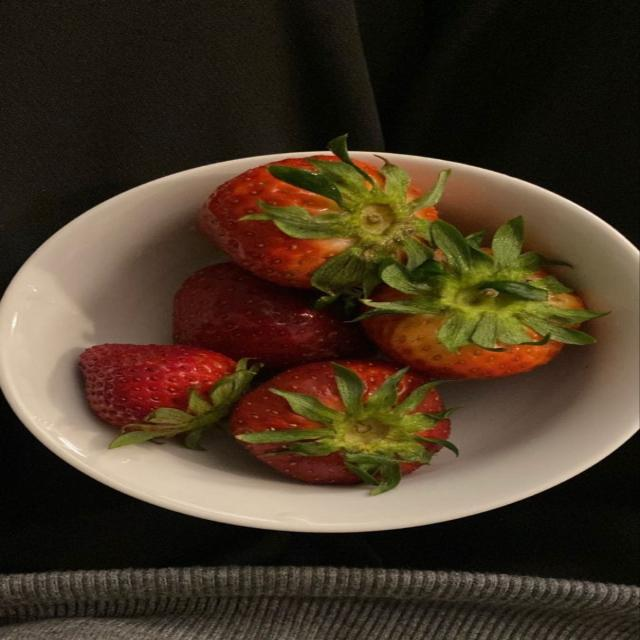strawberry: (199, 136, 448, 293), (361, 218, 603, 378), (230, 361, 456, 493), (173, 263, 372, 367), (80, 344, 259, 447)
